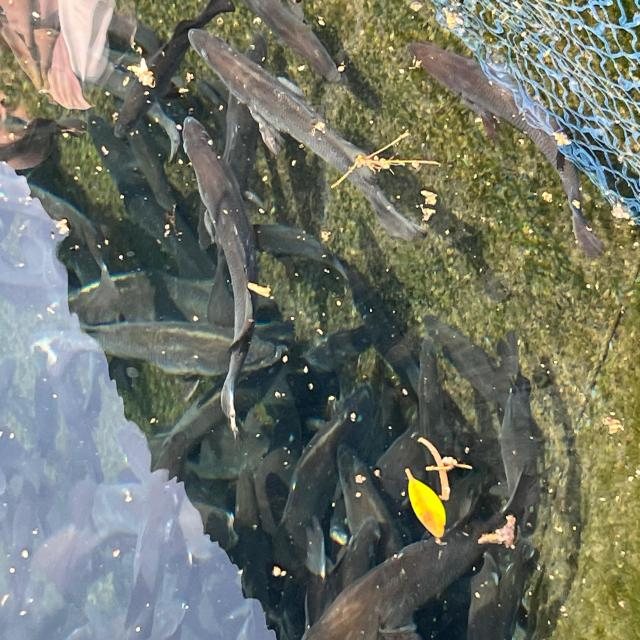ikan: (194, 22, 440, 237), (162, 107, 263, 421)
